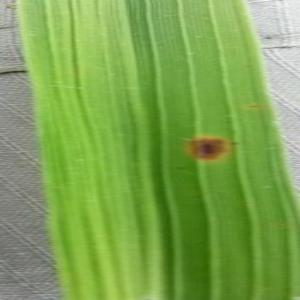Brown_Spot: (177, 127, 234, 173), (244, 101, 262, 112), (229, 136, 241, 148)
